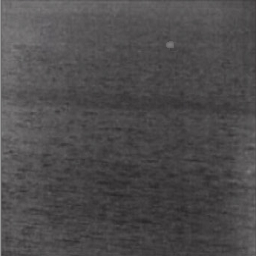Target: (164, 39, 174, 48)
